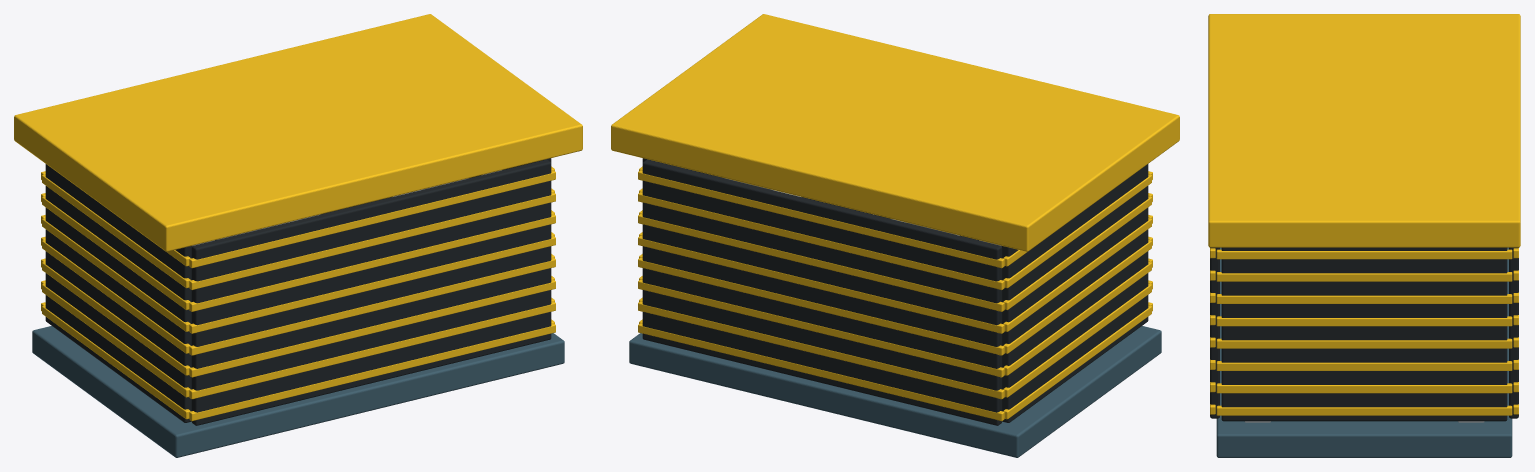
Rendered from scissor_lift_table.glb.
The picture shows the model from 3 angles, left to right: view 1: azimuth 30°, elevation 25°; view 2: azimuth 150°, elevation 25°; view 3: azimuth 270°, elevation 25°; orthographic projection. The views are drawn at different scales.
Parts seen in each view (by area): view 1: KIN_platform, KIN_lift_bellows_front, LIFT_base, KIN_lift_bellows_left, LIFT_bellows_rib_front_7, LIFT_bellows_rib_front_2, LIFT_bellows_rib_front_0, LIFT_bellows_rib_front_1, LIFT_bellows_rib_front_4, LIFT_bellows_rib_front_5, LIFT_bellows_rib_front_3, LIFT_bellows_rib_front_6 (+7 smaller); view 2: KIN_platform, KIN_lift_bellows_rear, LIFT_base, KIN_lift_bellows_left, LIFT_bellows_rib_rear_7, LIFT_bellows_rib_rear_2, LIFT_bellows_rib_rear_0, LIFT_bellows_rib_rear_1, LIFT_bellows_rib_rear_4, LIFT_bellows_rib_rear_5, LIFT_bellows_rib_rear_3, LIFT_bellows_rib_rear_6 (+7 smaller); view 3: KIN_platform, KIN_lift_bellows_right, LIFT_base, LIFT_bellows_rib_right_1, LIFT_bellows_rib_right_4, LIFT_bellows_rib_right_7, LIFT_bellows_rib_right_0, LIFT_bellows_rib_right_3, LIFT_bellows_rib_right_2, LIFT_bellows_rib_right_5, LIFT_bellows_rib_right_6, KIN_lift_bellows_front (+1 smaller).
Boxes of the visible parts, x1,y1,x2,y2 form: KIN_platform: (14,14,582,251); KIN_lift_bellows_front: (191,159,551,425); LIFT_base: (32,326,564,457); KIN_lift_bellows_left: (45,164,192,422); LIFT_bellows_rib_front_7: (189,170,555,268); LIFT_bellows_rib_front_2: (189,279,555,377); LIFT_bellows_rib_front_0: (189,323,555,421); LIFT_bellows_rib_front_1: (189,301,555,399); LIFT_bellows_rib_front_4: (189,236,555,333); LIFT_bellows_rib_front_5: (189,214,555,311); LIFT_bellows_rib_front_3: (189,257,555,355); LIFT_bellows_rib_front_6: (189,192,555,289); KIN_platform: (611,14,1179,251); KIN_lift_bellows_rear: (642,159,1002,425); LIFT_base: (629,326,1161,457); KIN_lift_bellows_left: (1001,164,1148,422); LIFT_bellows_rib_rear_7: (638,170,1004,268); LIFT_bellows_rib_rear_2: (638,279,1004,377); LIFT_bellows_rib_rear_0: (638,323,1004,421); LIFT_bellows_rib_rear_1: (638,301,1004,399); LIFT_bellows_rib_rear_4: (638,236,1004,333); LIFT_bellows_rib_rear_5: (638,214,1004,311); LIFT_bellows_rib_rear_3: (638,257,1004,355); LIFT_bellows_rib_rear_6: (638,192,1004,289); KIN_platform: (1208,14,1520,247); KIN_lift_bellows_right: (1221,247,1507,421); LIFT_base: (1216,247,1512,457); LIFT_bellows_rib_right_1: (1216,383,1512,393); LIFT_bellows_rib_right_4: (1216,316,1512,326); LIFT_bellows_rib_right_7: (1216,249,1512,259); LIFT_bellows_rib_right_0: (1216,405,1512,415); LIFT_bellows_rib_right_3: (1216,338,1512,348); LIFT_bellows_rib_right_2: (1216,361,1512,370); LIFT_bellows_rib_right_5: (1216,294,1512,303); LIFT_bellows_rib_right_6: (1216,272,1512,281); KIN_lift_bellows_front: (1210,247,1219,418).
Size of the model in its own units: 3 by 1.64 by 1.9.
